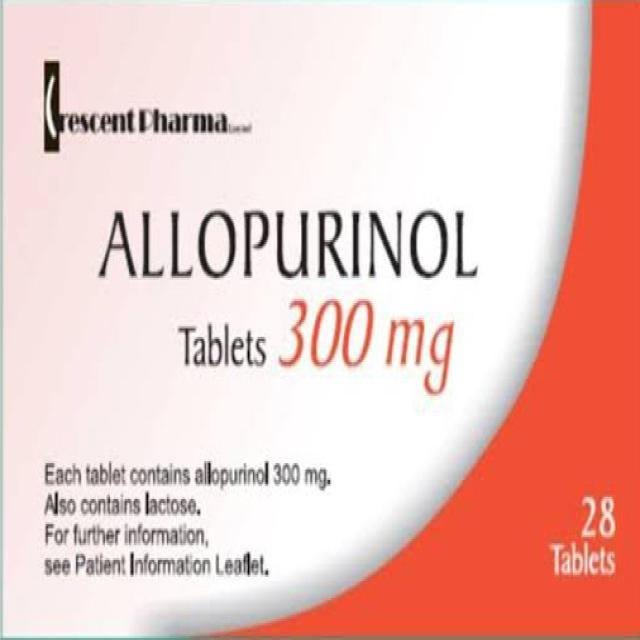drug-name: (98, 200, 480, 286)
